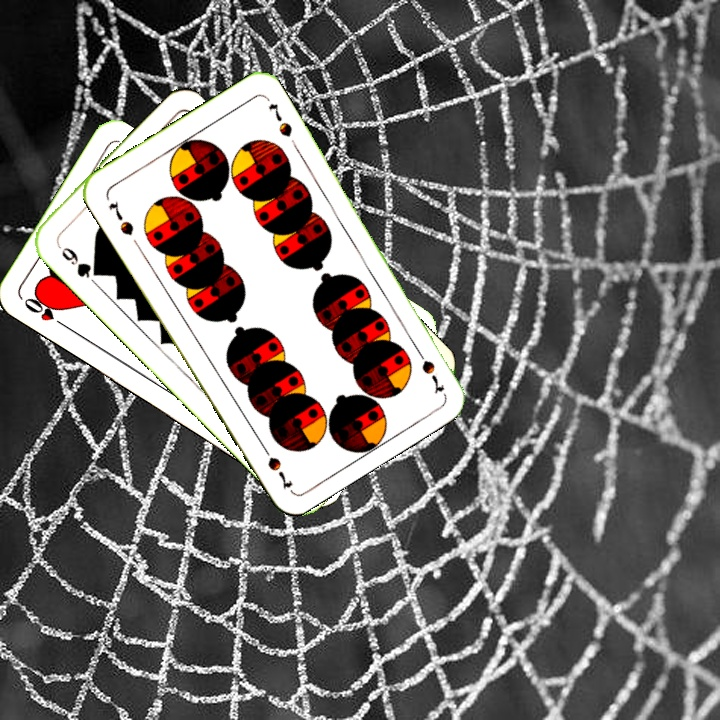G9: (57, 243, 104, 281)
HO: (19, 293, 72, 332)
S7: (410, 342, 447, 396), (104, 196, 137, 239)
